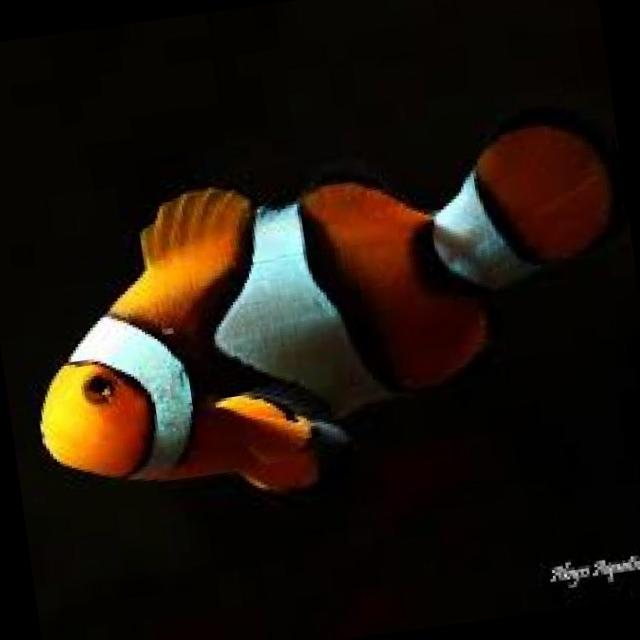ClownFish: (7, 104, 640, 514)
